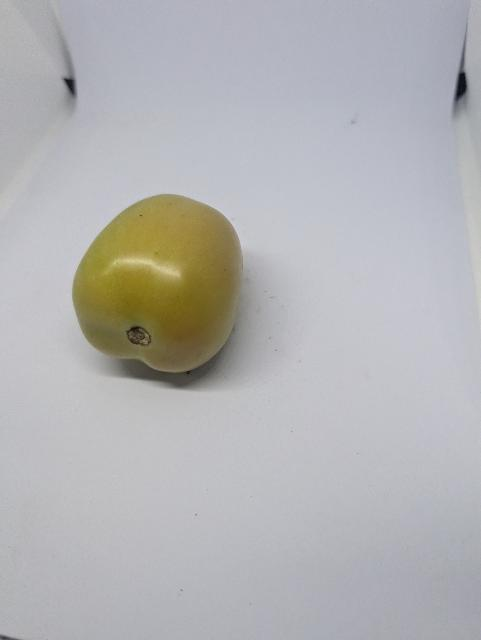breaker: (68, 189, 248, 386)
